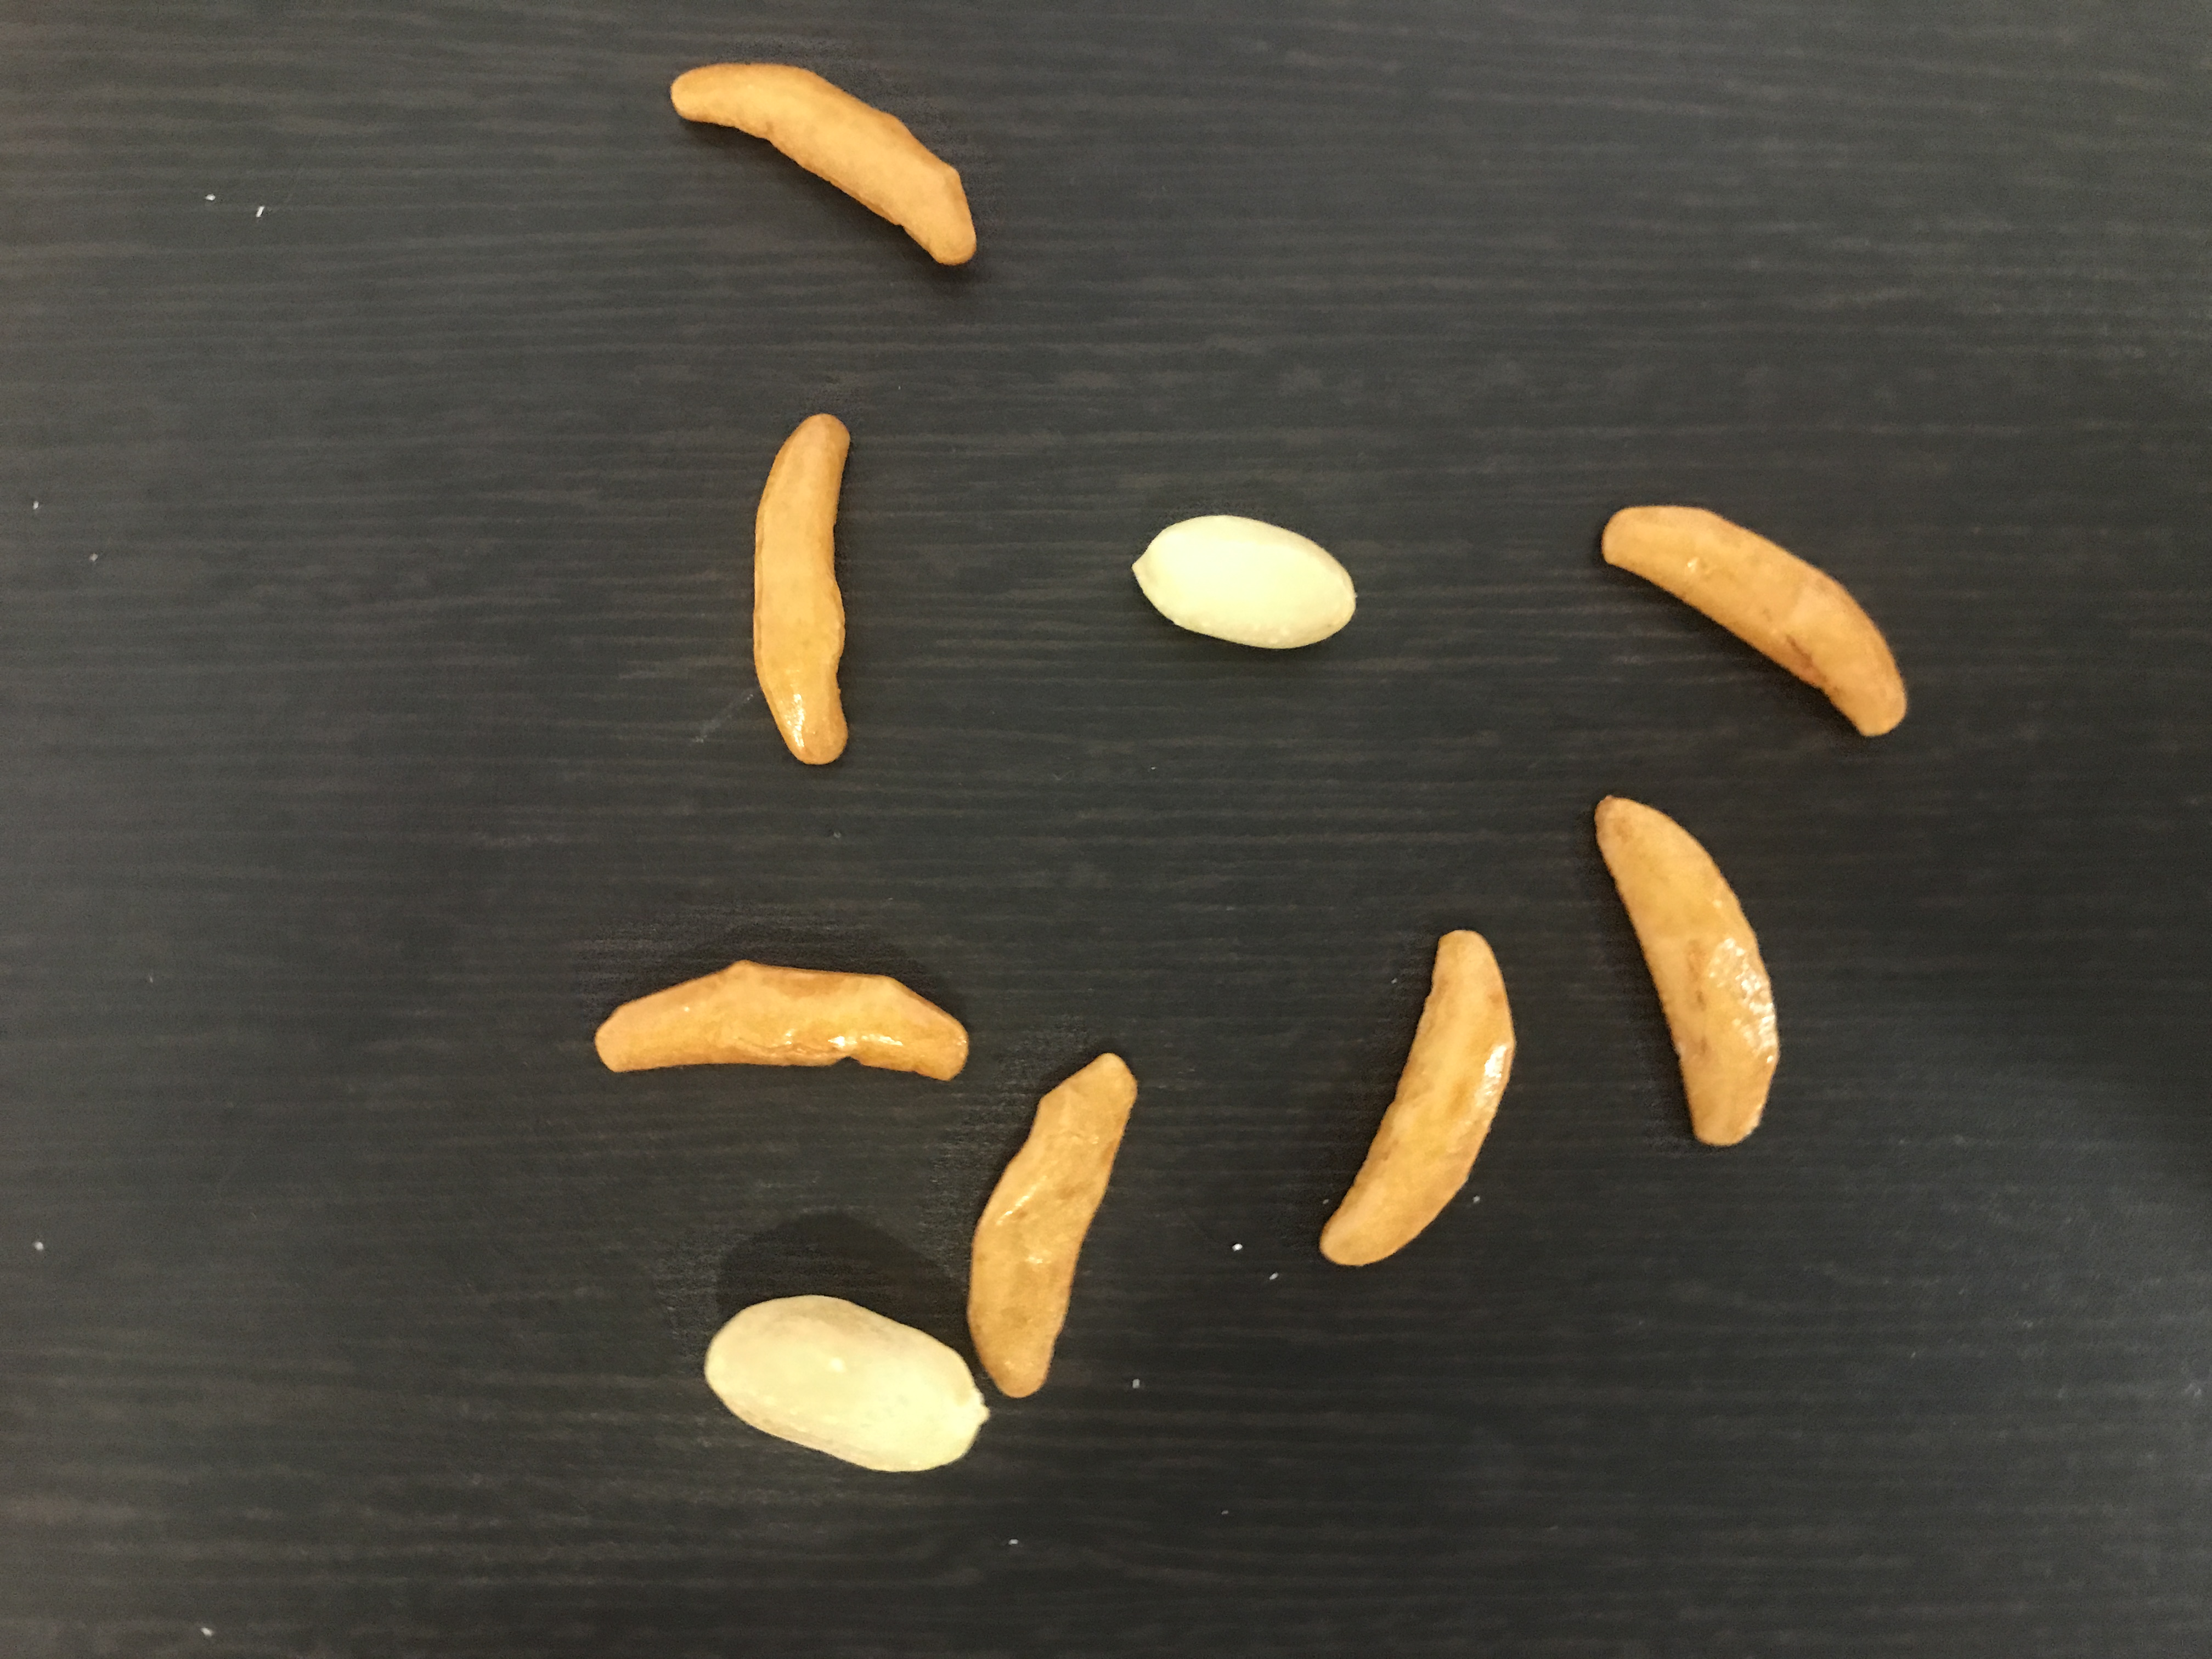peanut: (693, 1286, 998, 1486), (1120, 507, 1372, 653)
